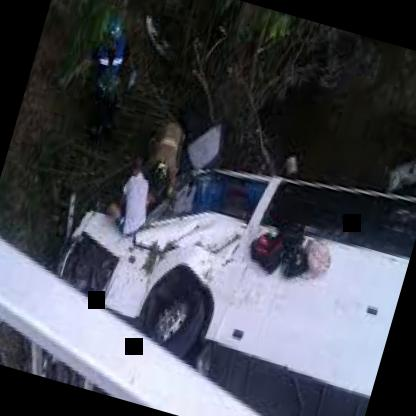accident: (44, 126, 416, 412)
